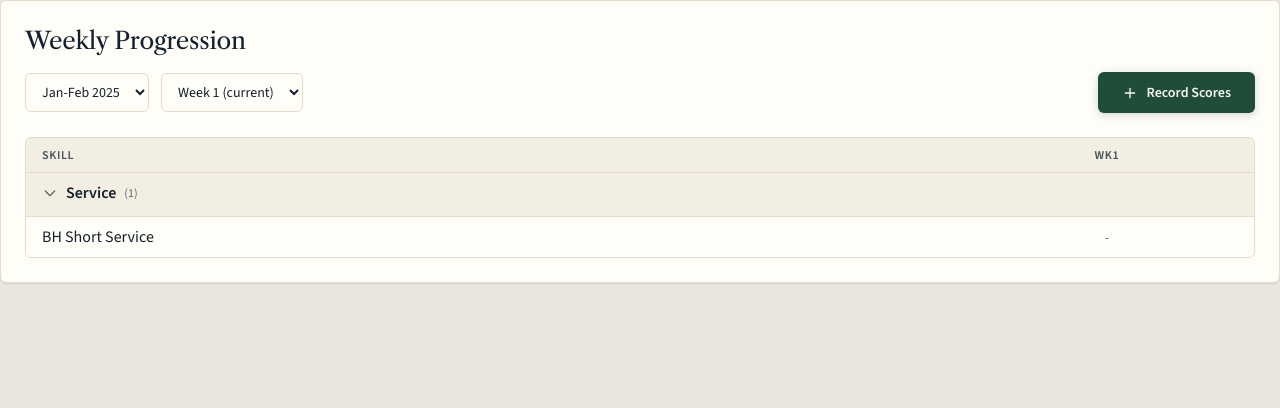
SkillProgressionTracker › navigates to recording view when Record Scores is clicked
The width and height of the screenshot is (1280, 408).
Click the button with test id "record-scores-button".
click(1177, 93)  # box 1098,72 -> 1255,113
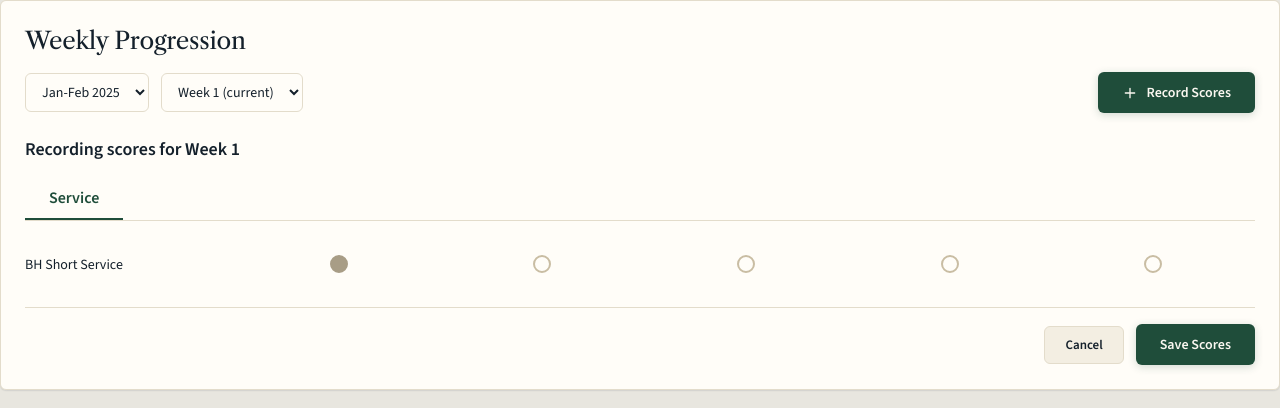
Expected: the element with test id "recording-view" is shown, 25,137 -> 1255,365
Expected: the element with test id "heatmap-view" is gone
